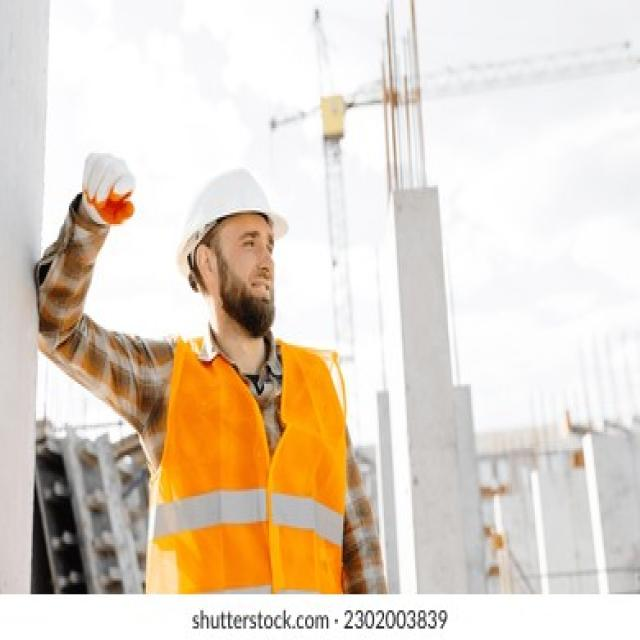helmet: (174, 164, 292, 278)
no-goggles: (209, 226, 279, 262)
vest: (142, 333, 351, 593)
